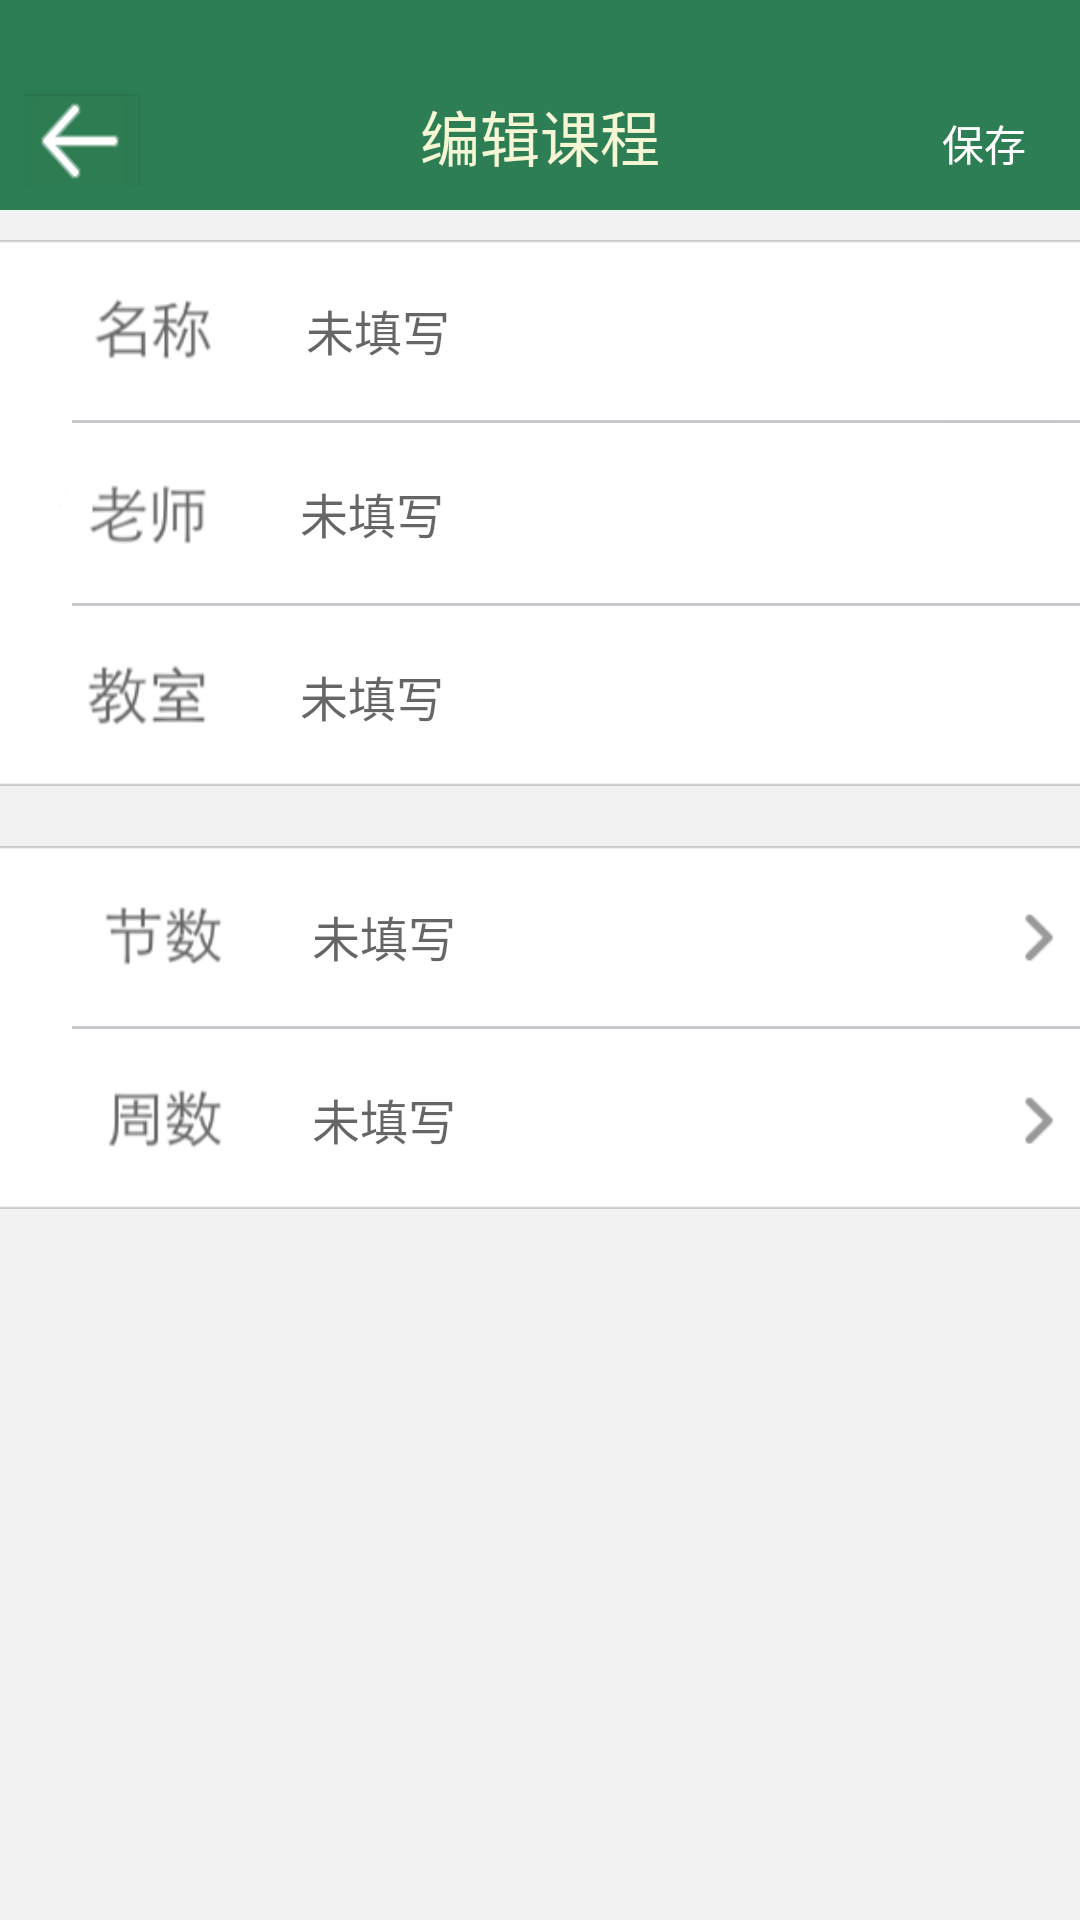

Where to tap for icons on this 1080*1920 app screen, as (x=x, y=y):
back: (x=80, y=141)
